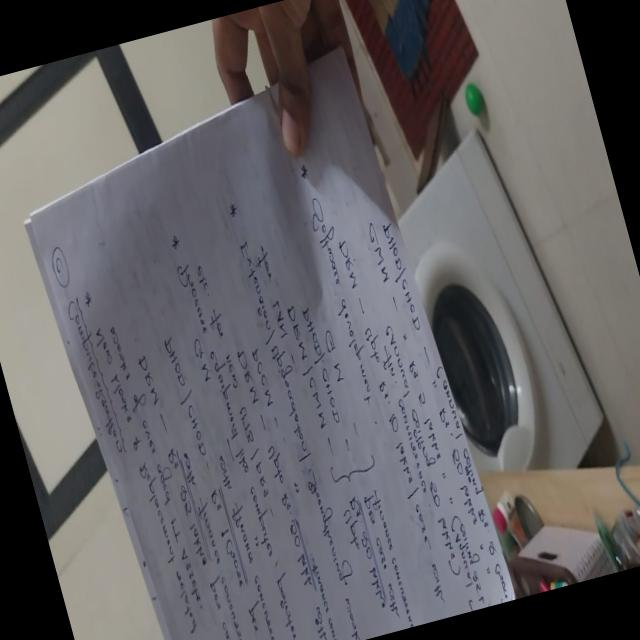Paper - Recyclable: (0, 36, 516, 640)
